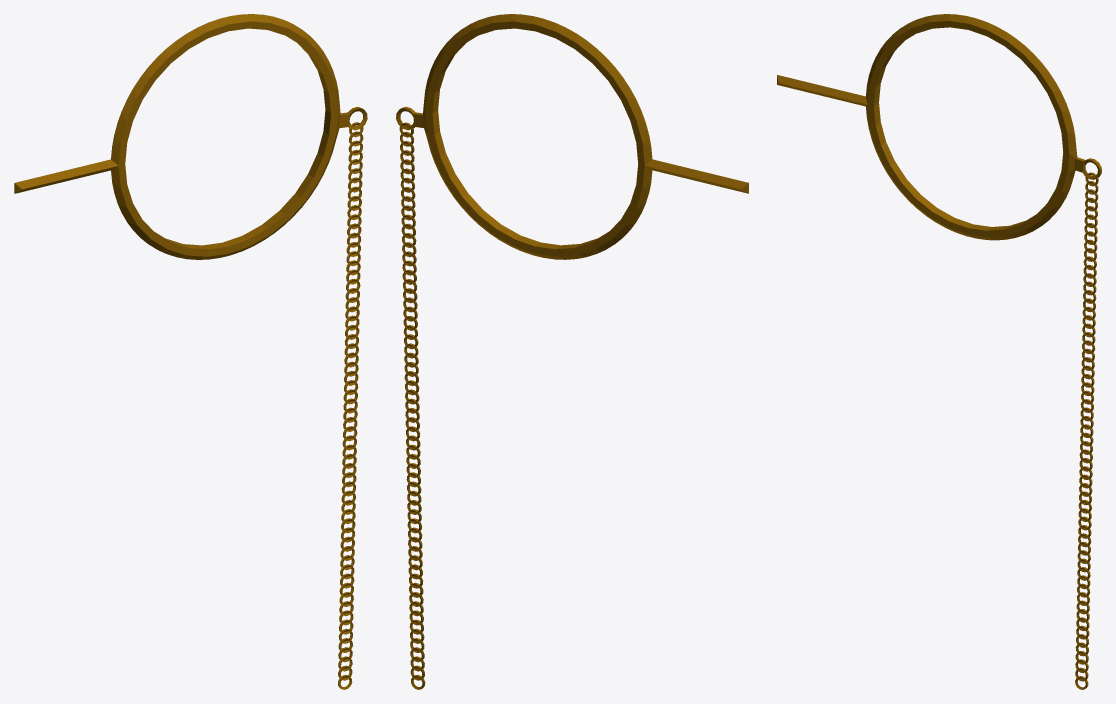
The model's file is monacle.glb.
The picture shows the model from 3 angles, left to right: view 1: azimuth 30°, elevation 25°; view 2: azimuth 150°, elevation 25°; view 3: azimuth 330°, elevation 25°; orthographic projection. The views are drawn at different scales.
Parts seen in each view (by area): view 1: Circle; view 2: Circle; view 3: Circle.
Boxes of the visible parts, x1,y1,x2,y2 form: Circle: (14,14,367,689); Circle: (396,14,748,689); Circle: (777,14,1101,689).
Size of the model in its own units: 0.9111 by 1.73 by 0.0267.
